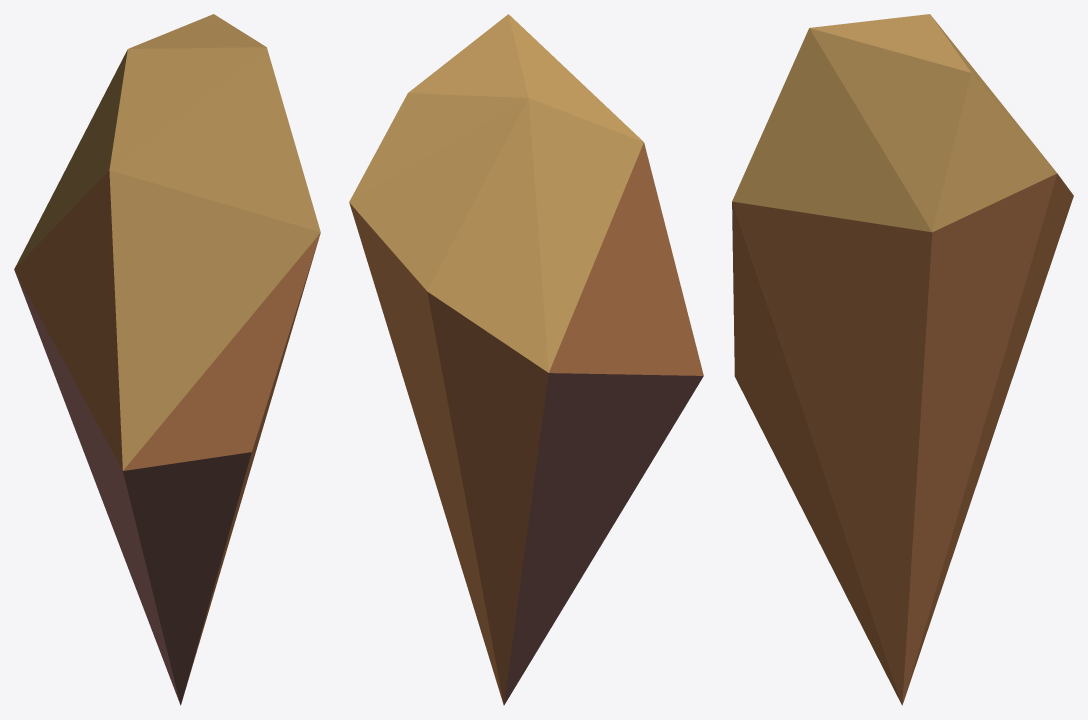
File: CommonTree_Autumn_3.lod4.glb
3 views of the same model, side by side, from view 1: azimuth 30°, elevation 25°; view 2: azimuth 150°, elevation 25°; view 3: azimuth 270°, elevation 25° (orthographic). The views are drawn at different scales.
Parts seen in each view (by area): view 1: CommonTree_Autumn_3; view 2: CommonTree_Autumn_3; view 3: CommonTree_Autumn_3.
Boxes of the visible parts, x1=… form: CommonTree_Autumn_3: x1=14, y1=14, x2=320, y2=705; CommonTree_Autumn_3: x1=349, y1=14, x2=703, y2=705; CommonTree_Autumn_3: x1=732, y1=14, x2=1073, y2=705.
Size of the model in its own units: 1.28 by 3.45 by 1.53.
